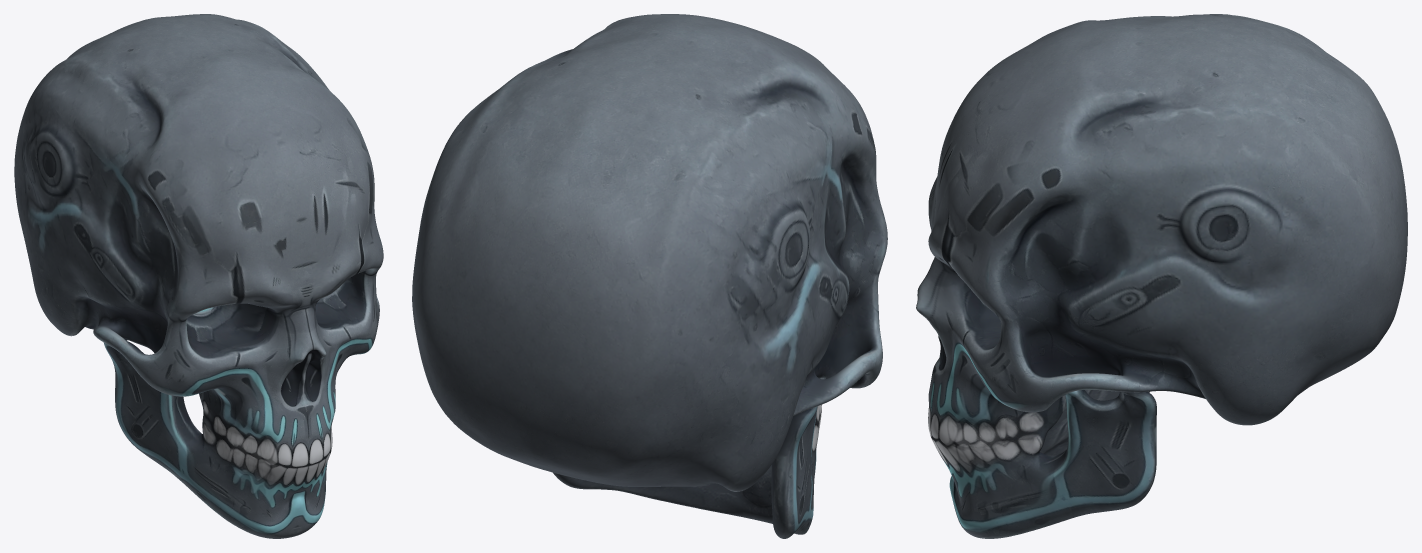
The model's file is cage.glb.
3 views of the same model, side by side, from view 1: azimuth 30°, elevation 25°; view 2: azimuth 150°, elevation 25°; view 3: azimuth 270°, elevation 25° (orthographic). The views are drawn at different scales.
Bounding box in the file's own units: 1.24 × 1.9 × 1.72.
1 material, 1 textured.
